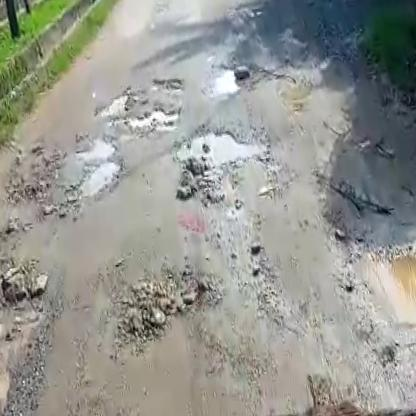pothole: (351, 230, 416, 366), (168, 118, 274, 175), (113, 100, 189, 139), (72, 157, 126, 199), (209, 59, 255, 98), (70, 126, 118, 160), (96, 94, 136, 122), (150, 71, 191, 93)
